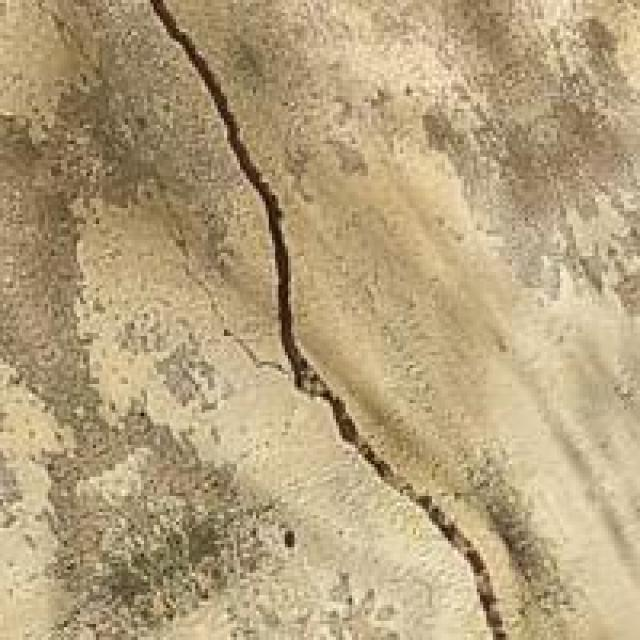crack: (144, 6, 518, 637)
